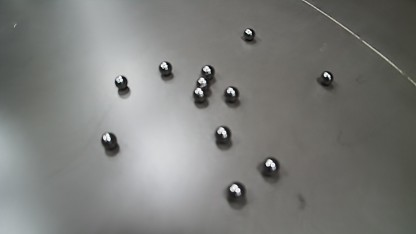ironball: (226, 181, 245, 200), (261, 157, 279, 176), (214, 125, 231, 143), (101, 132, 117, 150), (224, 86, 239, 103), (114, 75, 128, 90), (201, 65, 215, 80), (193, 87, 206, 103), (159, 61, 172, 76), (320, 71, 333, 86), (196, 76, 209, 91), (243, 28, 255, 41)
